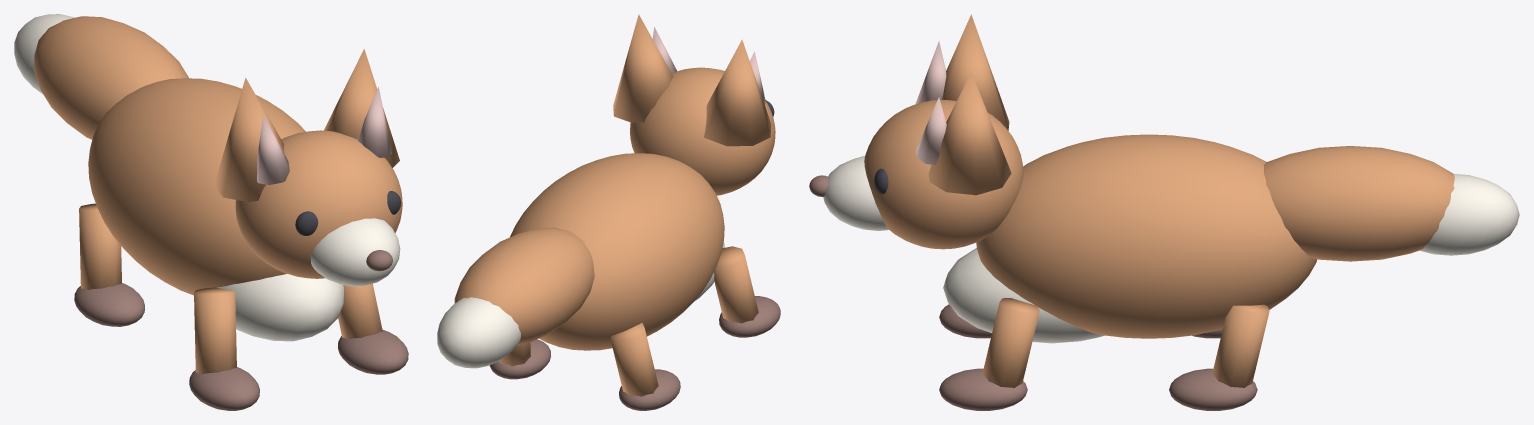
Rendered from other-fox.glb.
3 renders of one model, left to right at view 1: azimuth 30°, elevation 25°; view 2: azimuth 150°, elevation 25°; view 3: azimuth 270°, elevation 25°, orthographic. The views are drawn at different scales.
Parts seen in each view (by area): view 1: material_bd6030, material_f5e9d3, material_50312b, material_c58d87, material_100f13; view 2: material_bd6030, material_f5e9d3, material_50312b, material_c58d87; view 3: material_bd6030, material_f5e9d3, material_50312b, material_c58d87.
Boxes of the visible parts, x1,y1,x2,y2 form: material_bd6030: (34,16,402,374); material_f5e9d3: (14,14,400,341); material_50312b: (74,250,408,410); material_c58d87: (257,87,391,184); material_100f13: (295,191,401,235); material_bd6030: (454,14,775,396); material_f5e9d3: (437,242,724,368); material_50312b: (489,99,780,410); material_c58d87: (652,27,765,104); material_bd6030: (864,14,1454,388); material_f5e9d3: (823,156,1519,343); material_50312b: (809,175,1257,410); material_c58d87: (915,41,946,164).
Size of the model in its own units: 0.5856 by 0.895 by 1.76.
